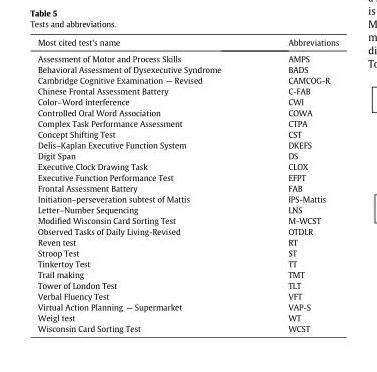table: (37, 36, 338, 333)
table column: (37, 36, 253, 333), (253, 36, 338, 333)
table column header: (37, 36, 338, 50)
table row: (37, 36, 338, 50), (37, 50, 338, 63), (37, 63, 338, 74), (37, 74, 338, 85), (37, 85, 338, 96), (37, 106, 338, 117), (37, 117, 338, 128), (37, 128, 338, 139), (37, 139, 338, 150), (37, 160, 338, 171), (37, 171, 338, 182), (37, 182, 338, 193), (37, 193, 338, 204), (37, 214, 338, 225), (37, 225, 338, 236), (37, 236, 338, 247), (37, 257, 338, 268), (37, 268, 338, 279), (37, 279, 338, 290), (37, 290, 338, 301), (37, 301, 338, 312), (37, 322, 338, 333), (37, 96, 338, 106), (37, 150, 338, 160), (37, 204, 338, 214), (37, 247, 338, 257), (37, 312, 338, 322)
